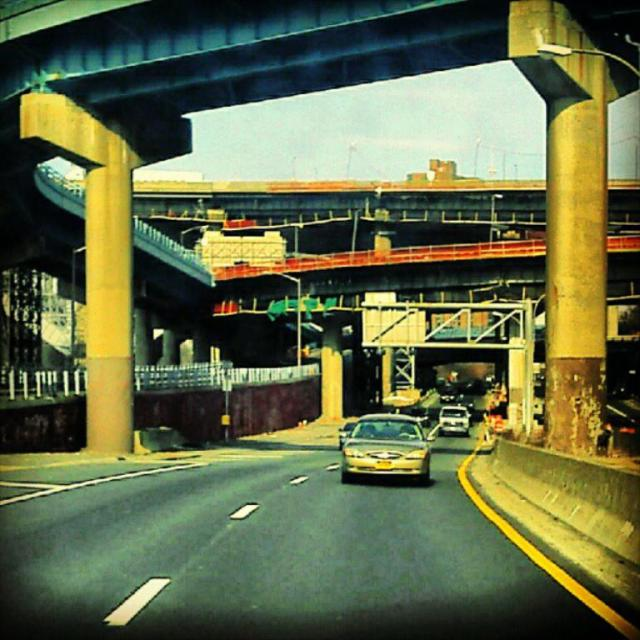car: (340, 407, 440, 484), (436, 402, 470, 437), (434, 383, 461, 402)
